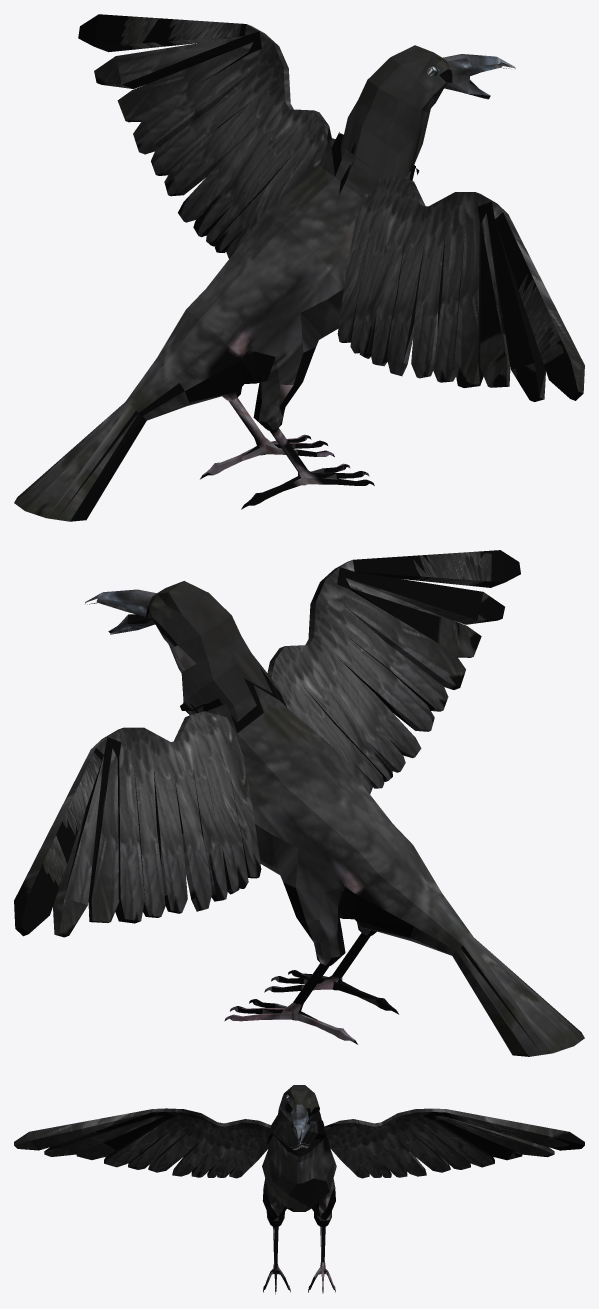
Rendered from CrowBent0_000002.obj.
3 views of the same model, one above another, from view 1: azimuth 30°, elevation 25°; view 2: azimuth 150°, elevation 25°; view 3: azimuth 270°, elevation 25° (orthographic). The views are drawn at different scales.
Visible parts, largest first — view 1: Cylinder.009, Cylinder.003, Cylinder.002, Cylinder.001; view 2: Cylinder.009, Cylinder.002, Cylinder.003, Cylinder.001; view 3: Cylinder.002, Cylinder.003, Cylinder.009, Cylinder.001.
Boxes of the visible parts, <box> form: Cylinder.009: <box>14,138,374,521</box>; Cylinder.003: <box>337,175,584,401</box>; Cylinder.002: <box>78,14,331,258</box>; Cylinder.001: <box>331,45,515,196</box>; Cylinder.009: <box>188,673,584,1056</box>; Cylinder.002: <box>14,711,261,937</box>; Cylinder.003: <box>267,550,520,794</box>; Cylinder.001: <box>85,581,286,732</box>; Cylinder.002: <box>324,1108,584,1178</box>; Cylinder.003: <box>14,1108,270,1178</box>; Cylinder.009: <box>262,1120,336,1294</box>; Cylinder.001: <box>266,1085,326,1156</box>.
Bounding box in the file's own units: 5.35 × 4.07 × 9.33.
4 materials, 4 textured.
